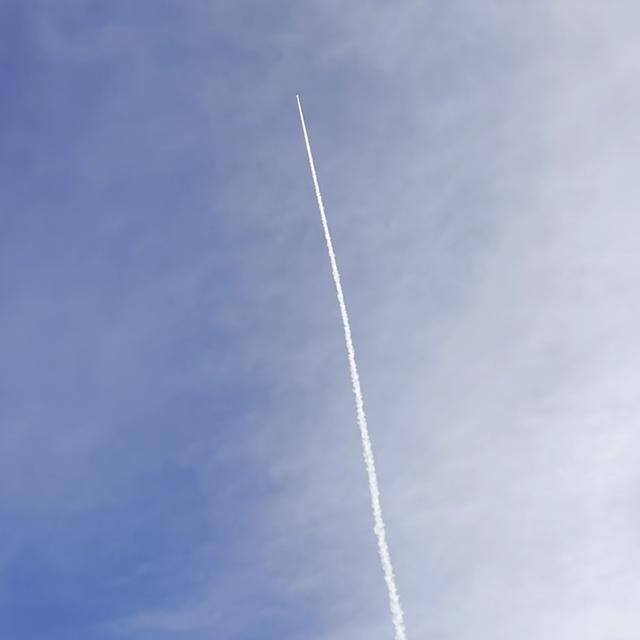smoke_trail_no_rocket: (296, 95, 408, 640)
